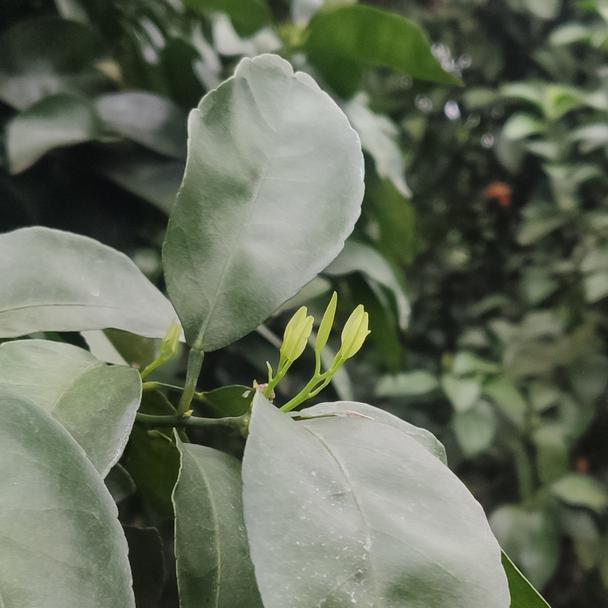shoot: (304, 303, 370, 401), (270, 310, 315, 385)
